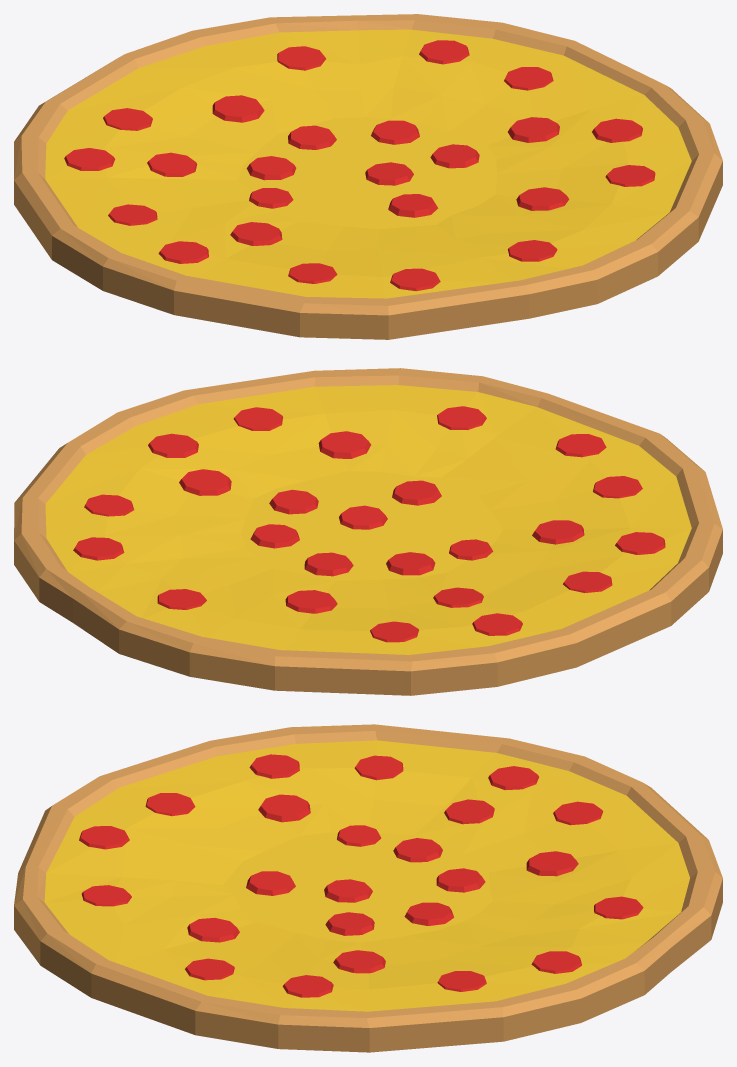
The model's file is Pizza.obj.
The picture shows the model from 3 angles, top to bottom: view 1: azimuth 30°, elevation 25°; view 2: azimuth 150°, elevation 25°; view 3: azimuth 270°, elevation 25°; orthographic projection.
Parts seen in each view (by area): view 1: Pizza_Yellow, Pizza_LightYellow, Pizza_Red; view 2: Pizza_Yellow, Pizza_LightYellow, Pizza_Red; view 3: Pizza_Yellow, Pizza_LightYellow, Pizza_Red.
Part boxes in pixels (<box>): Pizza_Yellow: <box>45,29,691,298</box>; Pizza_LightYellow: <box>14,14,722,339</box>; Pizza_Red: <box>64,40,655,291</box>; Pizza_Yellow: <box>45,385,691,654</box>; Pizza_LightYellow: <box>14,368,722,695</box>; Pizza_Red: <box>73,406,665,642</box>; Pizza_Yellow: <box>44,740,689,1011</box>; Pizza_LightYellow: <box>14,724,722,1052</box>; Pizza_Red: <box>79,754,643,997</box>.
Size of the model in its own units: 3.37 by 0.1609 by 3.36.
